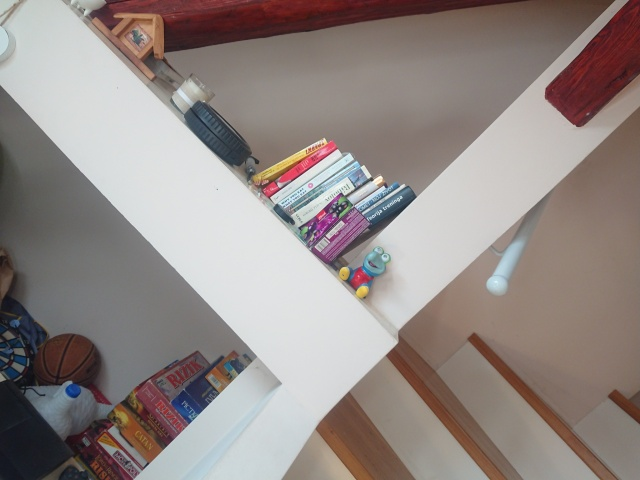Franck Black Currant Tea 60g: (299, 190, 373, 266)
